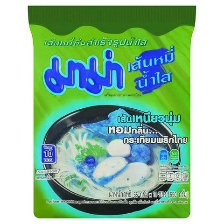snack: (19, 0, 203, 224)
